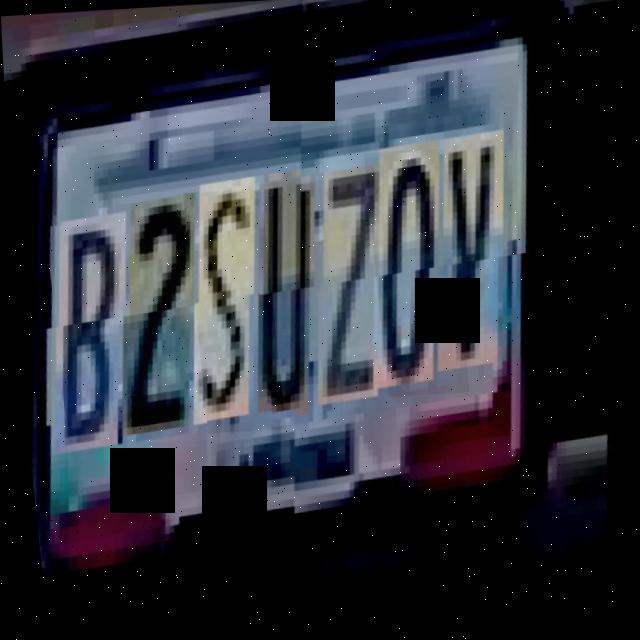2: (112, 205, 220, 444)
B: (44, 222, 151, 462)
O: (362, 149, 466, 397)
S: (181, 189, 281, 436)
U: (246, 182, 341, 427)
V: (427, 141, 530, 381)
Z: (307, 172, 409, 411)
